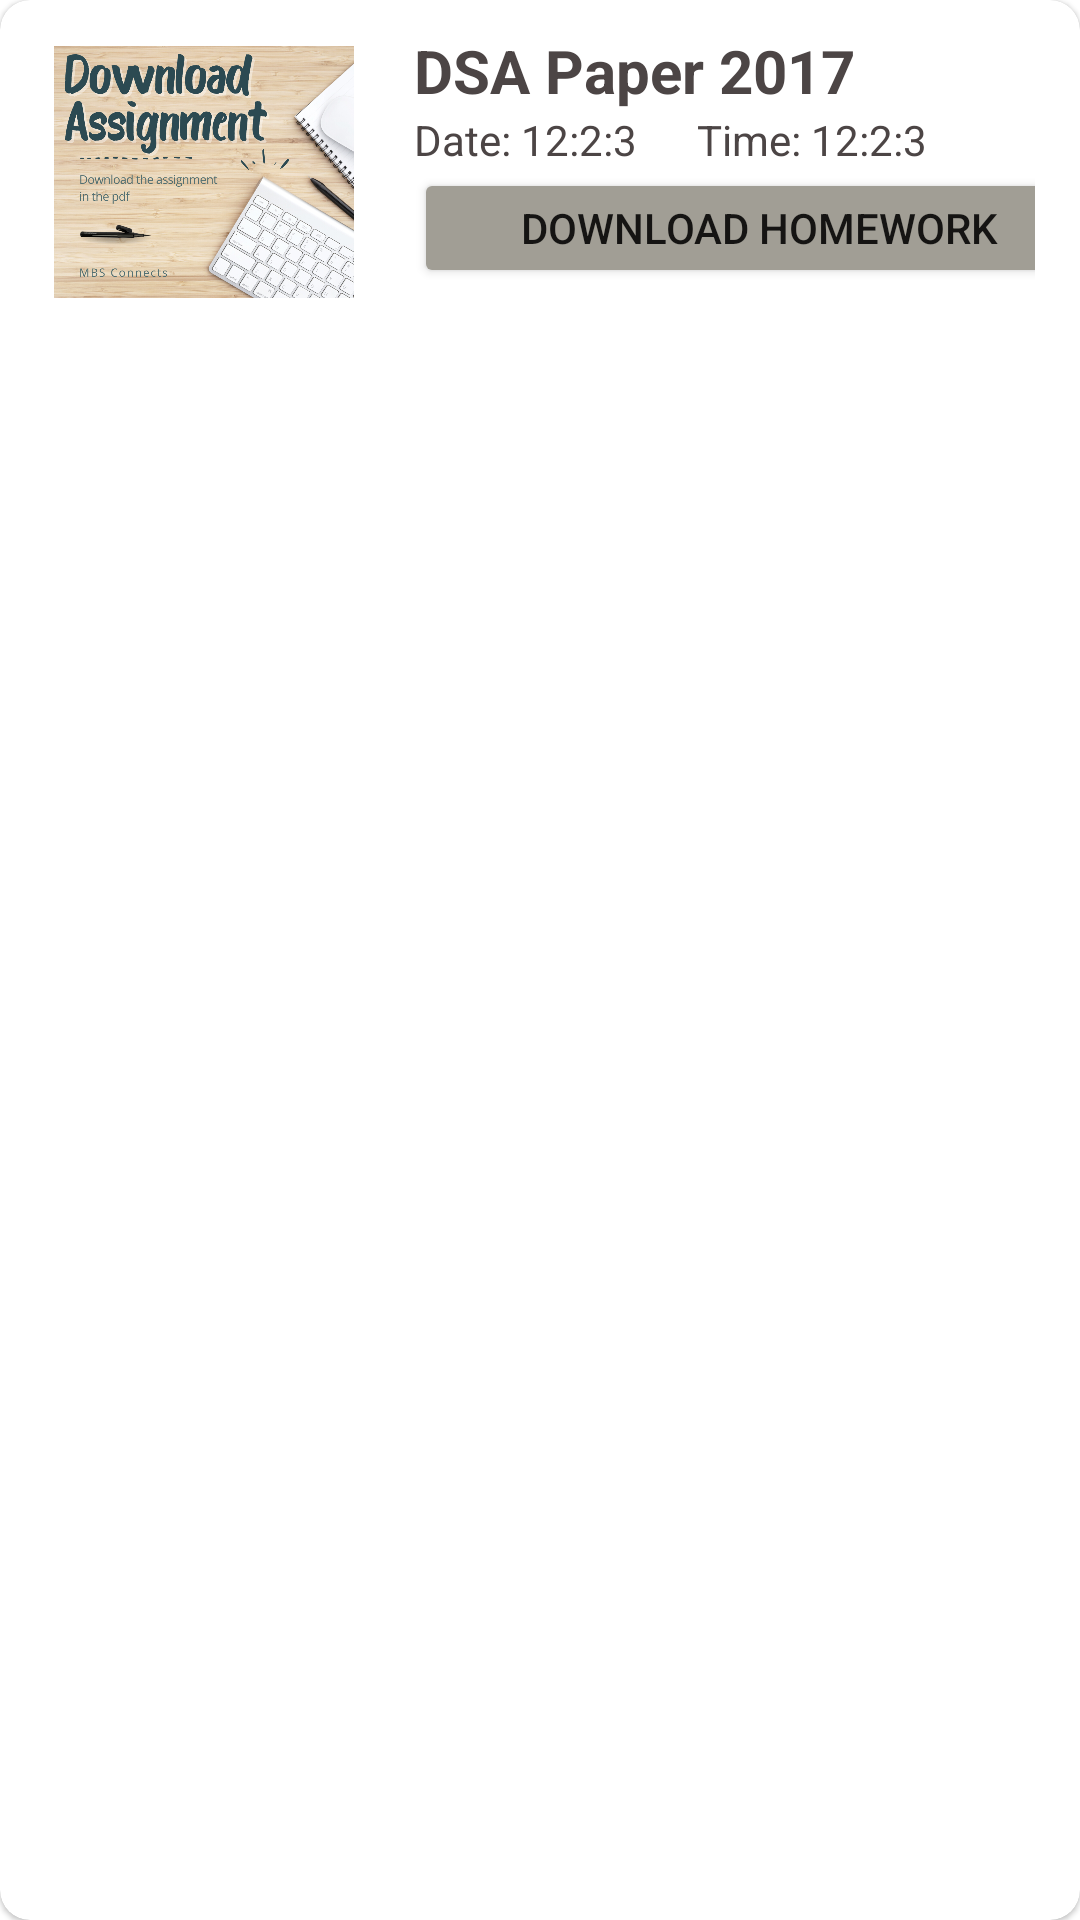

Point at icon controls on the screen. Image size 1080×1920, points as point (x, y).
assignmemt item pic: point (204, 172)
